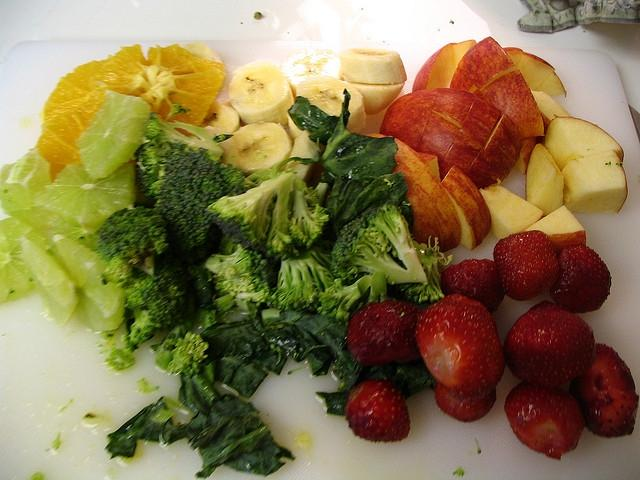apple: (364, 134, 462, 253), (417, 152, 491, 251), (476, 70, 544, 140), (544, 116, 624, 172), (466, 114, 522, 190), (561, 150, 628, 213), (479, 184, 547, 241), (523, 204, 586, 262), (458, 36, 516, 92), (526, 143, 564, 218), (416, 110, 461, 168), (379, 104, 431, 152), (412, 43, 457, 92), (461, 96, 501, 150), (439, 131, 482, 181), (530, 90, 572, 135), (432, 88, 478, 128), (516, 52, 556, 92), (388, 88, 439, 110), (536, 72, 566, 96), (452, 40, 477, 66), (502, 48, 524, 68)
banana: (228, 61, 294, 136), (296, 76, 367, 135), (220, 123, 292, 176), (337, 49, 407, 85), (342, 81, 404, 115), (194, 100, 240, 134), (290, 130, 318, 158)
broccoli: (154, 147, 258, 264), (206, 170, 335, 260), (100, 253, 194, 352), (332, 197, 430, 287), (94, 206, 169, 278), (206, 244, 269, 318), (268, 246, 334, 314), (316, 270, 391, 328), (396, 235, 454, 304), (167, 331, 208, 379), (154, 324, 188, 371)
kiwi: (27, 162, 136, 228), (77, 90, 151, 180), (21, 234, 81, 326), (0, 217, 52, 304)
orange: (36, 43, 224, 164)
strawberry: (414, 293, 506, 401), (503, 300, 596, 390), (568, 341, 640, 438), (504, 382, 586, 460), (348, 299, 421, 364), (494, 230, 560, 301), (550, 244, 612, 314), (346, 379, 410, 442), (440, 258, 506, 314), (436, 382, 496, 422)
